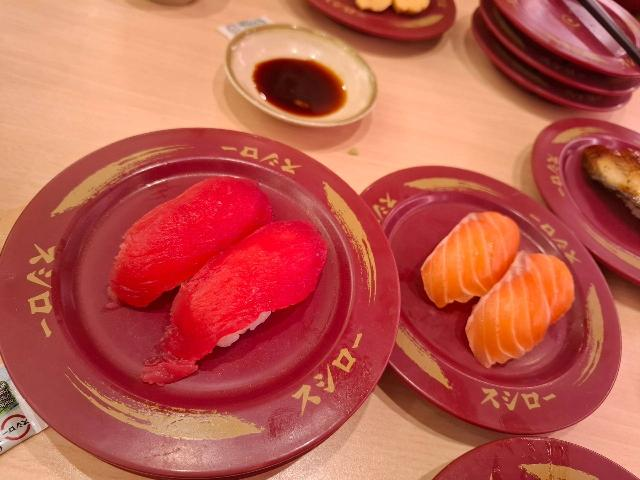janred: (0, 149, 383, 416), (324, 153, 603, 386), (528, 113, 640, 304), (501, 0, 640, 61), (435, 435, 614, 480), (470, 53, 595, 112), (313, 0, 464, 48), (519, 53, 625, 98)
